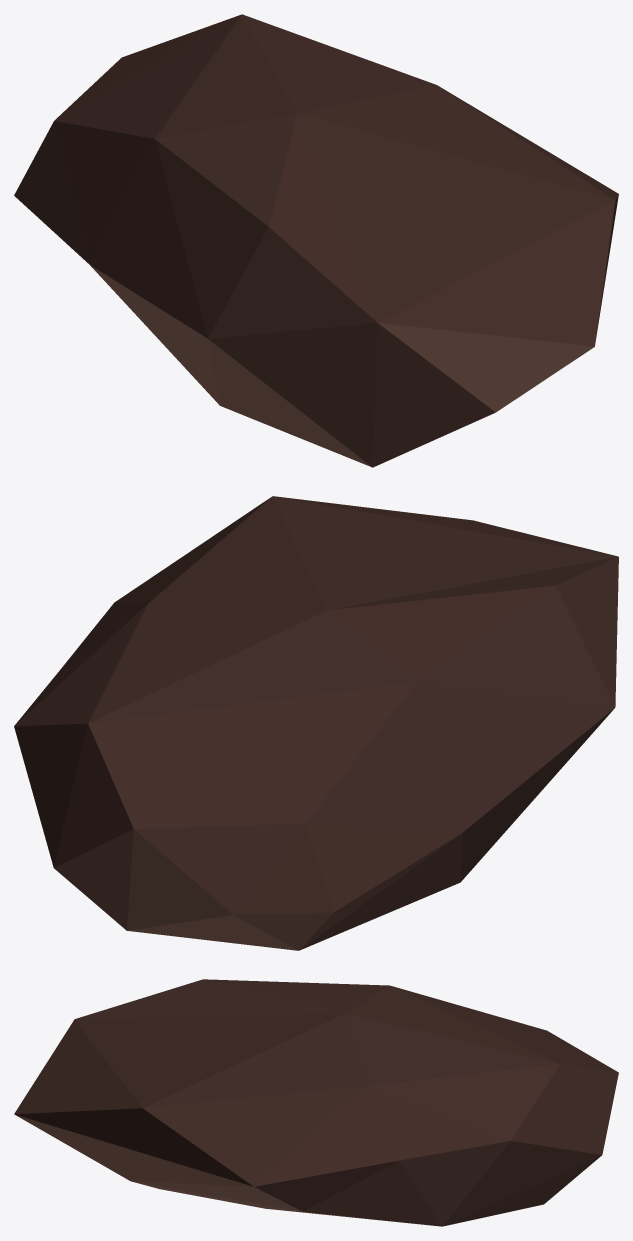
File: Brown_stone_007.fbx
3 views of the same model, one above another, from view 1: azimuth 30°, elevation 25°; view 2: azimuth 150°, elevation 25°; view 3: azimuth 270°, elevation 25° (orthographic). The views are drawn at different scales.
Visible parts, largest first — view 1: Brown_stone_007; view 2: Brown_stone_007; view 3: Brown_stone_007.
Boxes of the visible parts, x1,y1,x2,y2 form: Brown_stone_007: (14, 14, 618, 467); Brown_stone_007: (14, 496, 618, 950); Brown_stone_007: (14, 979, 618, 1226).
Bounding box in the file's own units: 193 × 300 × 109.
